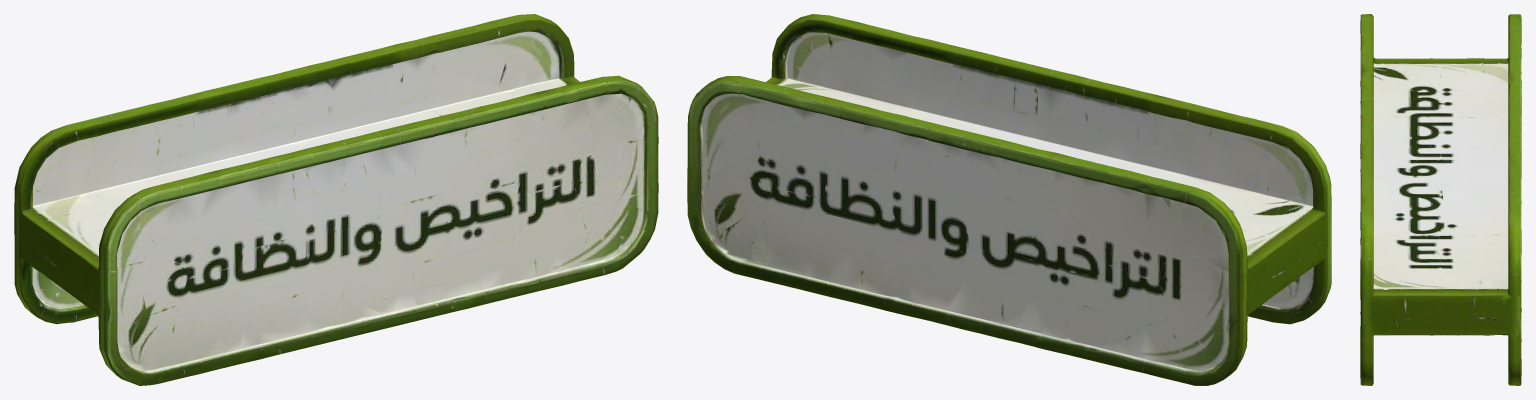
File: icon_licenses.glb
The picture shows the model from 3 angles, left to right: view 1: azimuth 30°, elevation 25°; view 2: azimuth 150°, elevation 25°; view 3: azimuth 270°, elevation 25°; orthographic projection. The views are drawn at different scales.
Bounding box in the file's own units: 1.9 × 0.6346 × 0.5458.
1 material, 1 textured.
